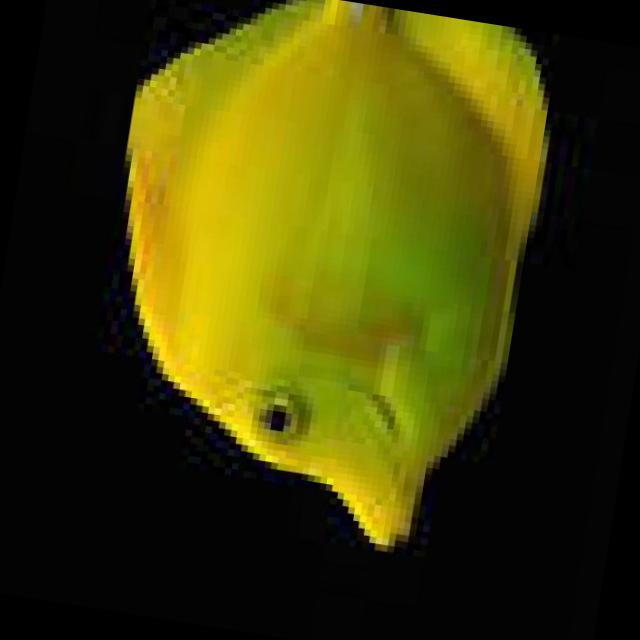YellowTang: (50, 0, 572, 573)
